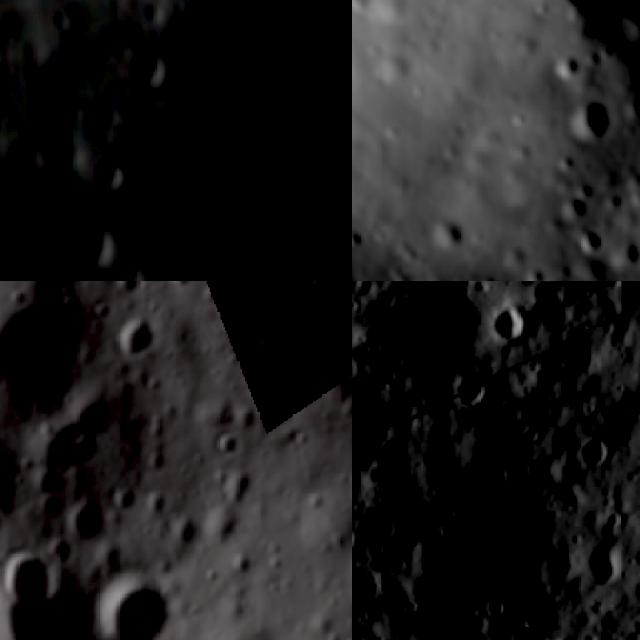crater: (192, 0, 352, 281), (409, 453, 596, 640), (0, 281, 96, 419), (96, 571, 182, 640), (0, 550, 69, 624), (490, 589, 567, 640), (552, 327, 608, 387), (110, 310, 164, 370), (64, 213, 120, 270), (563, 424, 620, 480), (444, 366, 496, 421), (352, 404, 397, 467), (577, 540, 629, 594), (484, 300, 534, 354), (127, 30, 170, 91), (67, 499, 111, 554), (564, 95, 604, 144), (352, 565, 390, 616), (352, 456, 381, 519), (352, 381, 386, 426), (571, 225, 611, 257), (108, 487, 142, 521), (214, 428, 248, 462), (93, 160, 128, 191), (550, 56, 584, 78), (111, 281, 144, 302), (352, 349, 367, 395), (352, 319, 364, 362), (352, 420, 363, 466)
